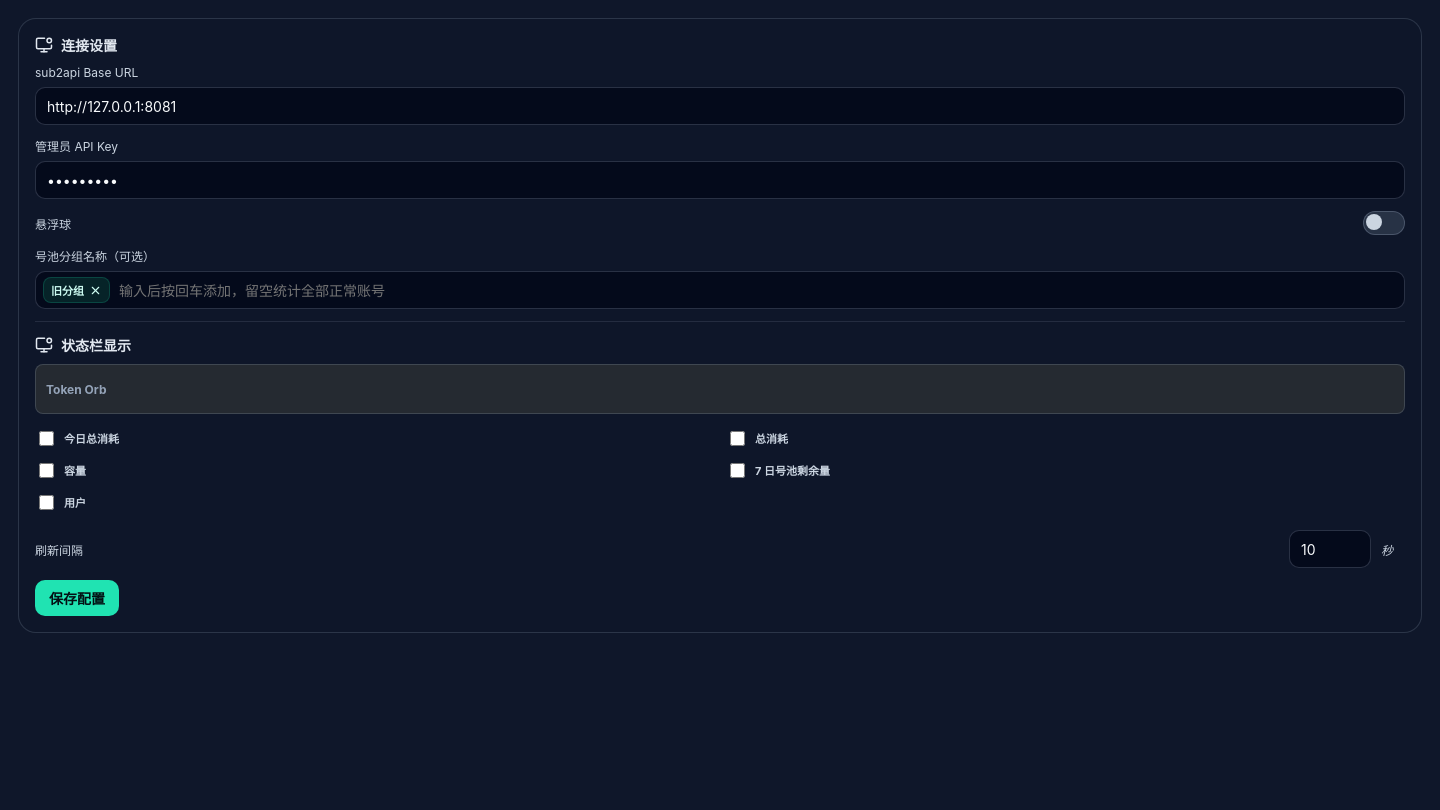
Test: App settings sync › shows the personal JWT field after enabling the personal floating orb
This screenshot has width=1440, height=810.
Click the checkbox named "personal-floating-enabled" at (53, 224), box [35,211,1405,235]
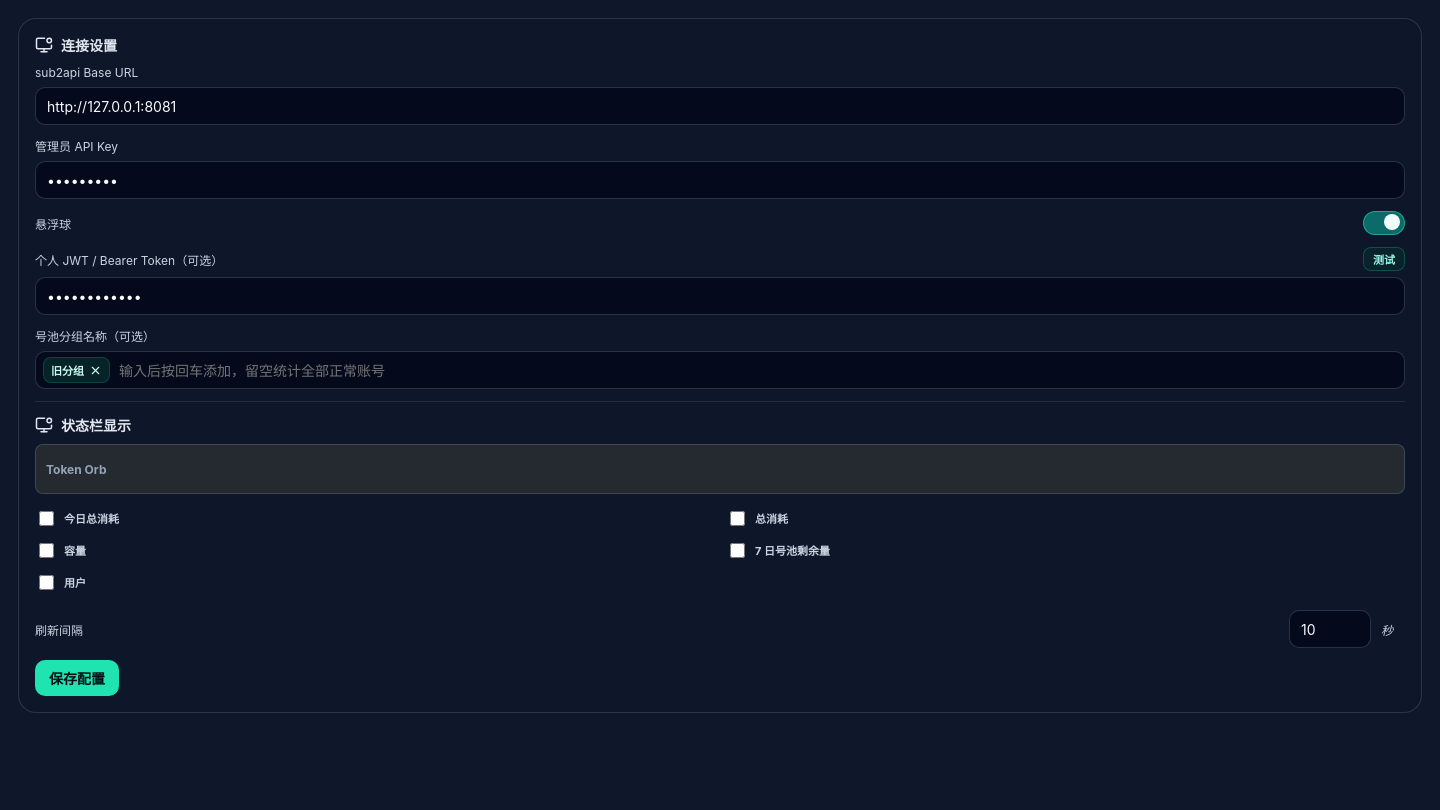
Expected: the password field with placeholder "用于悬浮球个人数据" is shown, [35,277,1405,315]
